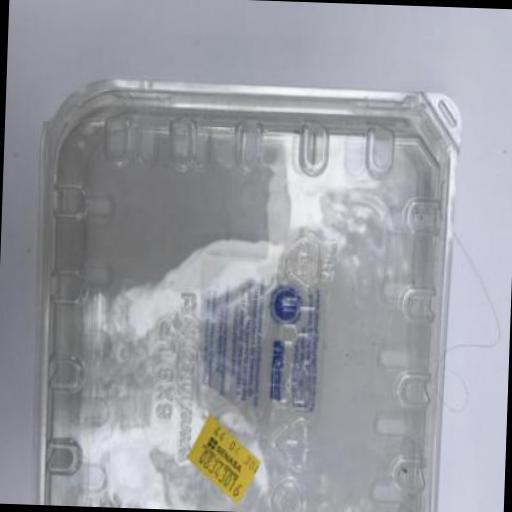plastic: (26, 75, 465, 512)
